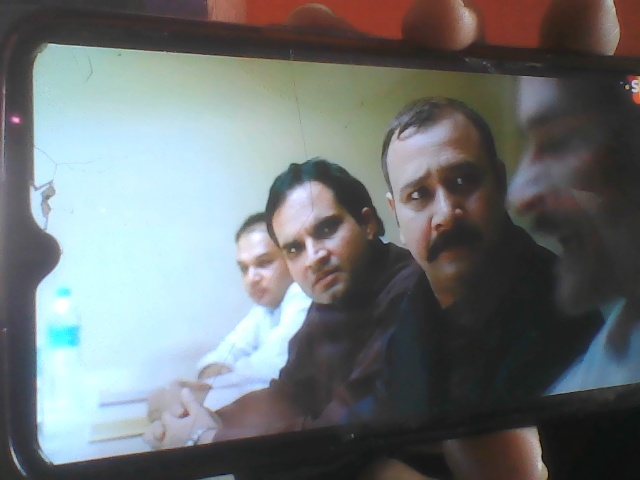fake: (378, 82, 525, 291), (256, 147, 383, 327)
